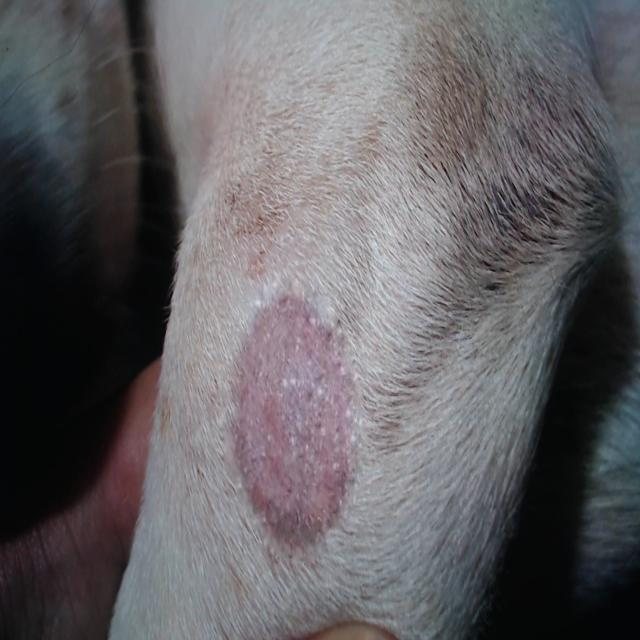ringworm: (219, 293, 367, 552)
